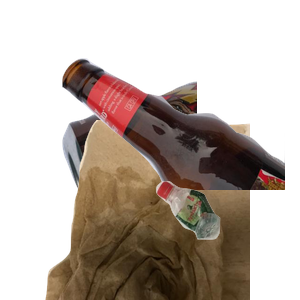glass: (60, 56, 300, 236)
metal: (60, 79, 300, 259)
plastic: (153, 178, 300, 300)
trash: (43, 120, 283, 300)
